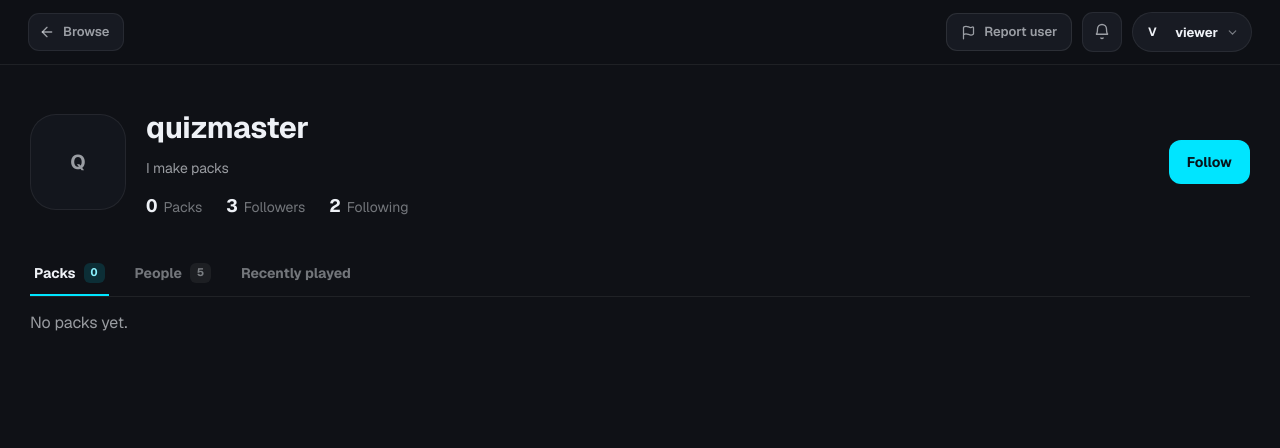
Test: AuthorScreen › jumps to the People tab with Followers preselected when the Followers stat is clicked
Expected: the text "quizmaster" is shown, x1=146 y1=105 x2=309 y2=150
Click the button "3 Followers". click: coordinates (266, 206)
box: x1=226 y1=192 x2=305 y2=220
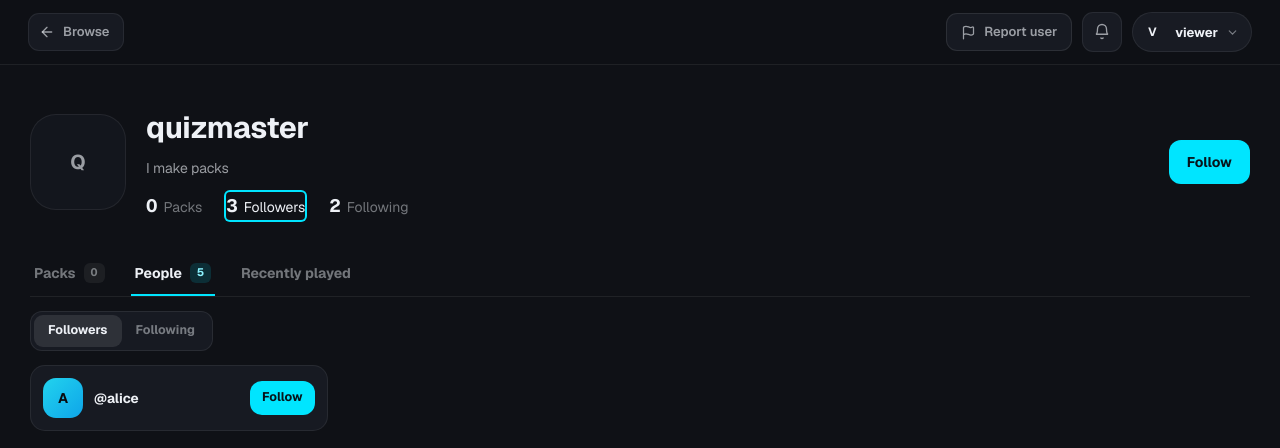
Expected: the text "@alice" is shown, x1=94 y1=388 x2=139 y2=408
